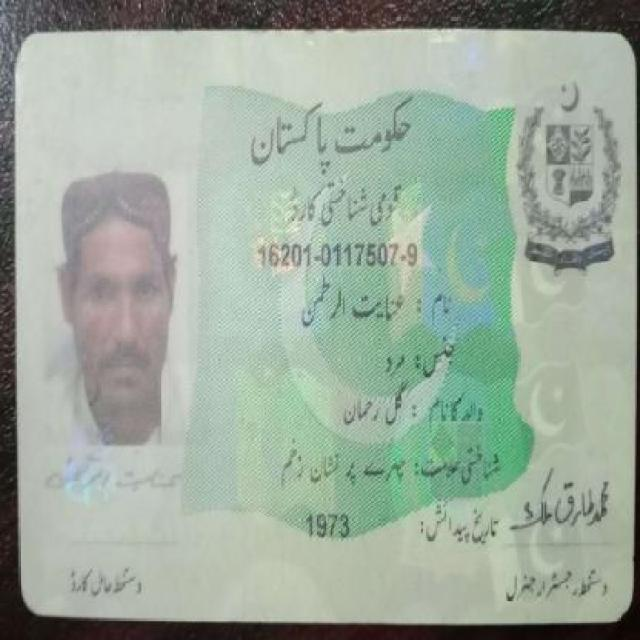Front: (15, 37, 631, 606)
